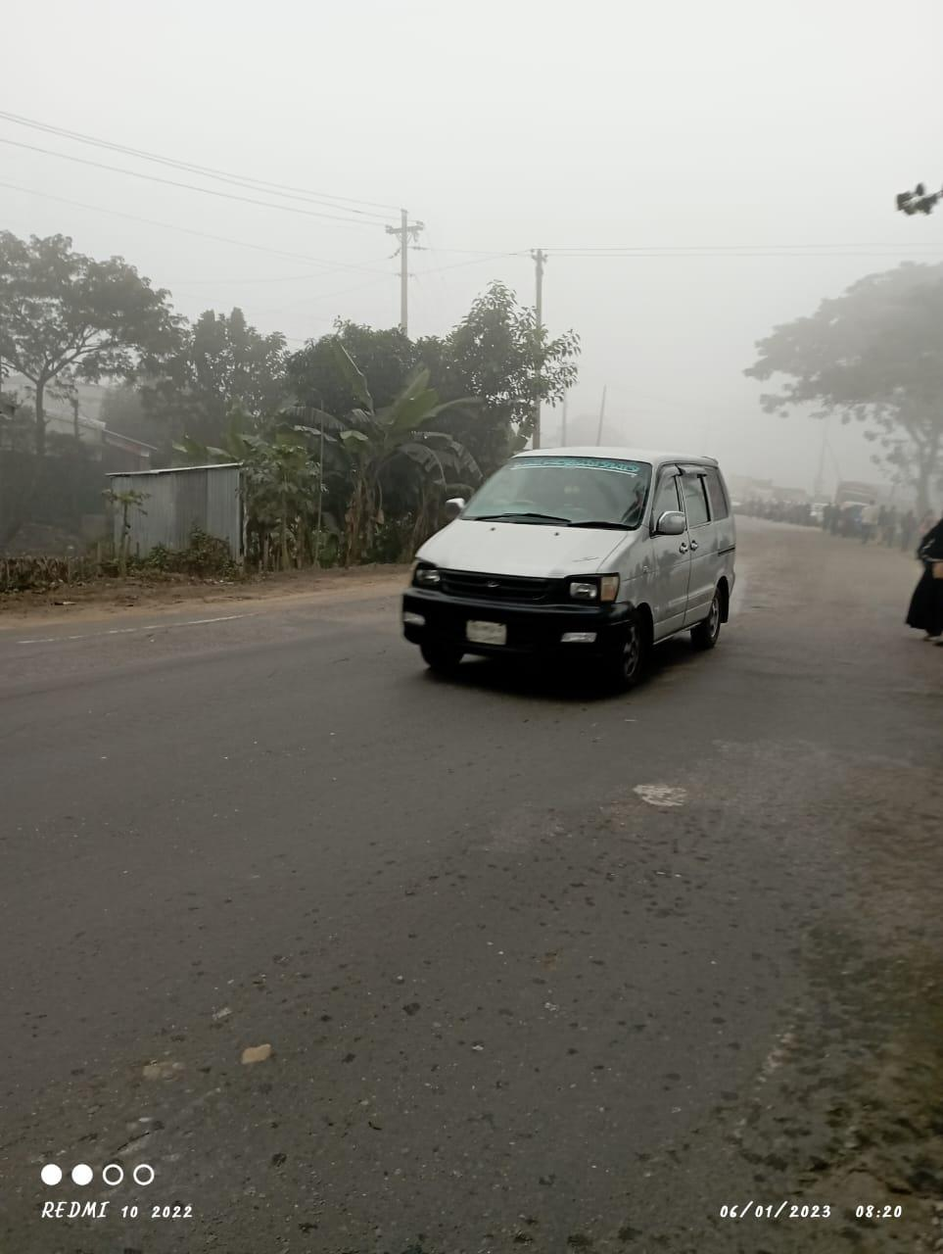Car: (400, 428, 748, 687)
